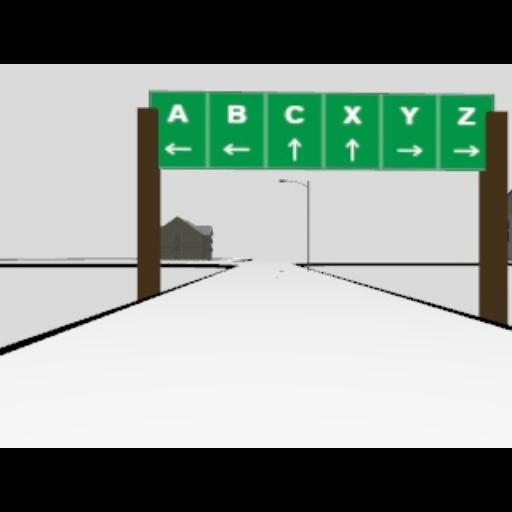A: (167, 102, 189, 122)
B: (226, 104, 246, 124)
C: (284, 104, 304, 124)
Left: (220, 142, 250, 156), (164, 142, 192, 156)
Right: (396, 144, 422, 156), (452, 144, 478, 156)
Straight: (287, 136, 301, 160), (346, 138, 358, 160)
X: (342, 104, 362, 124)
Y: (398, 106, 420, 124)
Z: (456, 106, 476, 124)
